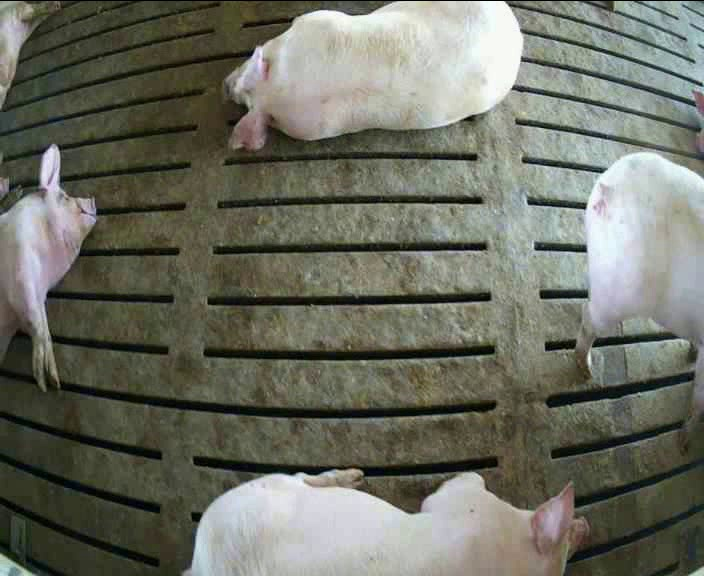pig: (226, 2, 522, 149), (191, 470, 587, 574), (576, 152, 703, 447), (0, 144, 95, 390)
